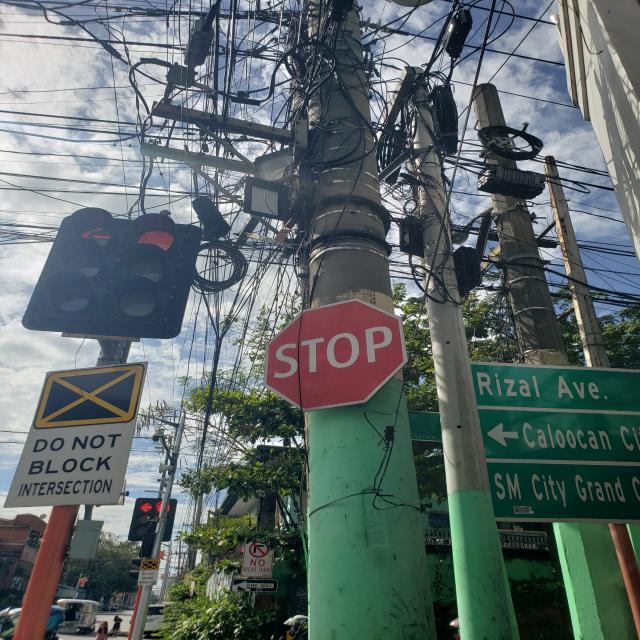stop-sign: (263, 298, 409, 412)
